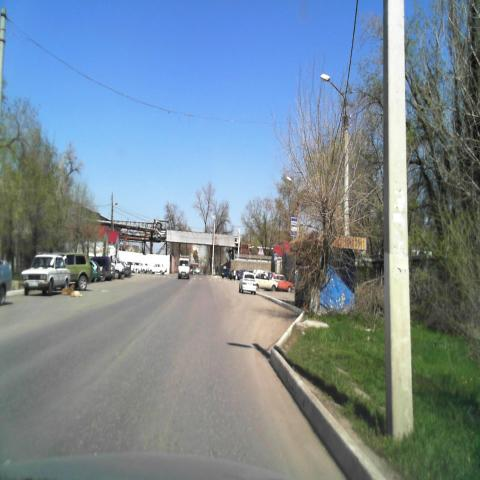1_20: (258, 244, 264, 256)
5_16: (291, 216, 298, 237)
5_19_1: (273, 252, 279, 262)
